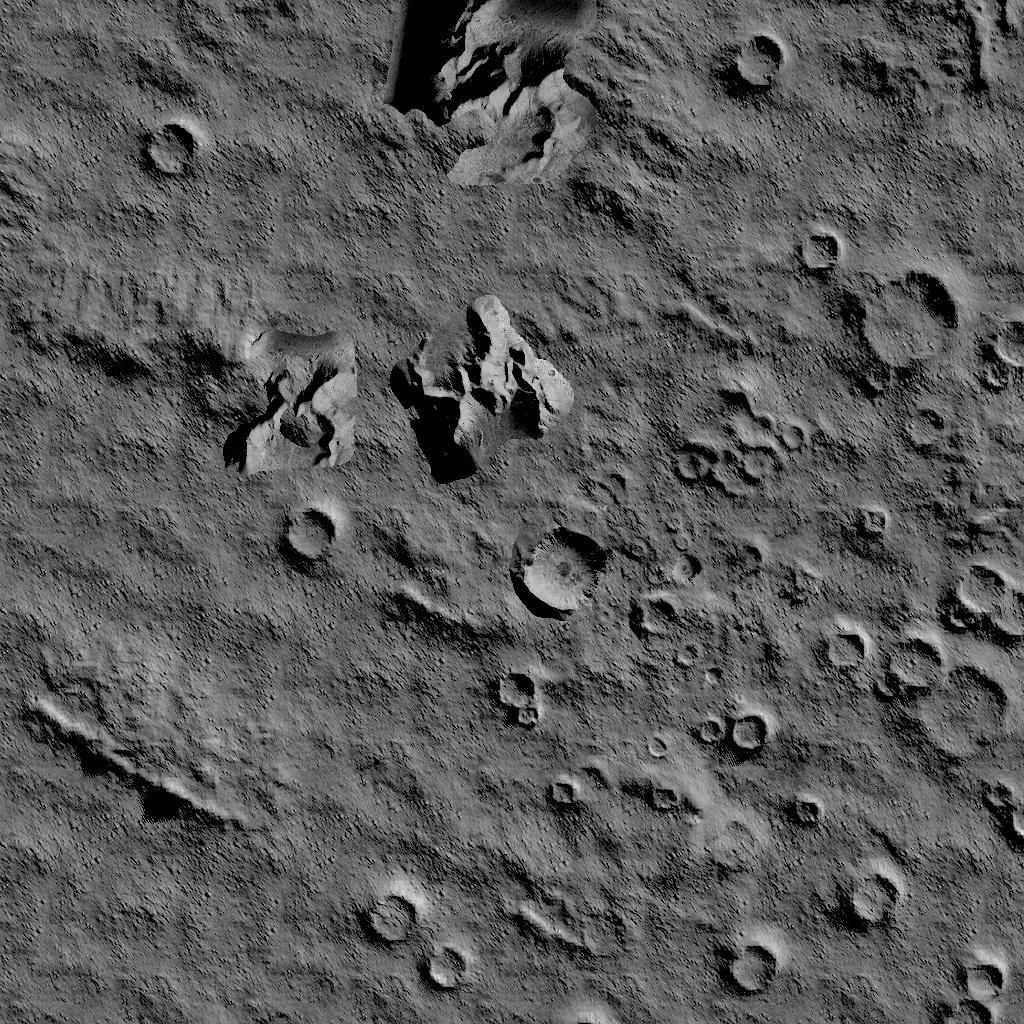Boulders: (93, 270, 363, 482), (371, 0, 614, 208), (20, 670, 236, 862), (383, 294, 577, 488), (365, 510, 497, 654), (0, 126, 65, 258), (216, 0, 312, 29)
Crater: (825, 552, 1024, 760), (853, 266, 1024, 446), (666, 366, 816, 500), (349, 880, 481, 998), (512, 514, 612, 626), (707, 26, 809, 110), (124, 106, 212, 196), (631, 540, 702, 646), (925, 945, 1012, 1024), (272, 492, 348, 582), (826, 862, 912, 940), (706, 926, 784, 1010), (695, 694, 777, 767), (481, 666, 550, 734), (971, 776, 1024, 860), (778, 222, 844, 277), (534, 990, 636, 1024), (532, 766, 584, 815), (780, 784, 826, 834), (849, 490, 891, 543), (640, 770, 674, 815)
Plan surface: (4, 880, 322, 1024), (266, 667, 472, 852), (4, 504, 260, 638), (737, 123, 1009, 192), (238, 86, 344, 242)
